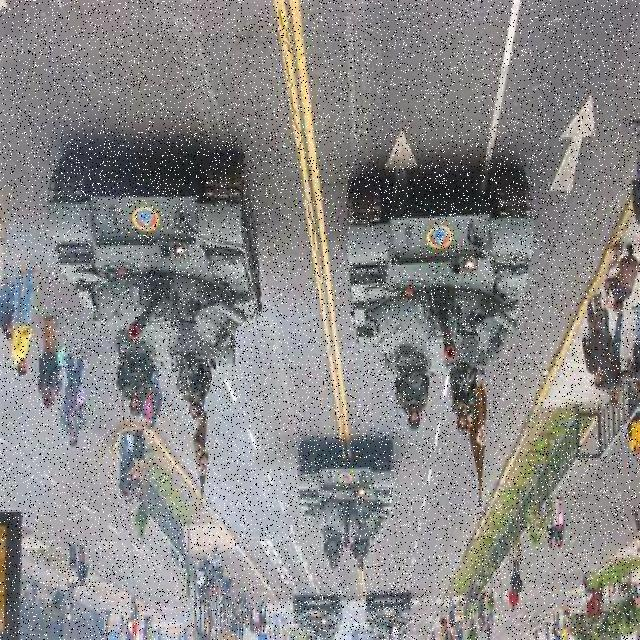MIL_MBT: (46, 142, 262, 422), (348, 162, 536, 437), (298, 433, 393, 568), (363, 590, 418, 640), (289, 591, 343, 640)
